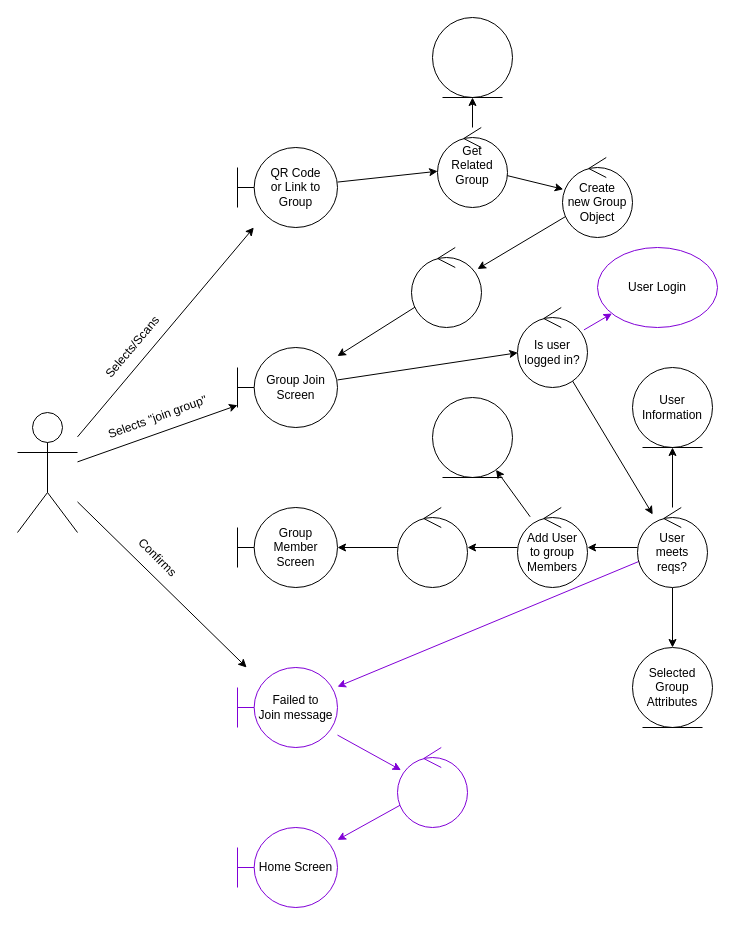
Image size: 735x925. Some labels were removed from this diagram. The centre of each missing label's shape, as x and y in pixels:
Actor: (x=47, y=472)
Groups: (x=472, y=57)
Selected Group Members: (x=472, y=437)
Show Group Join Screen: (x=446, y=287)
Show Group Member Screen: (x=432, y=547)
Show Home Screen: (x=432, y=787)
